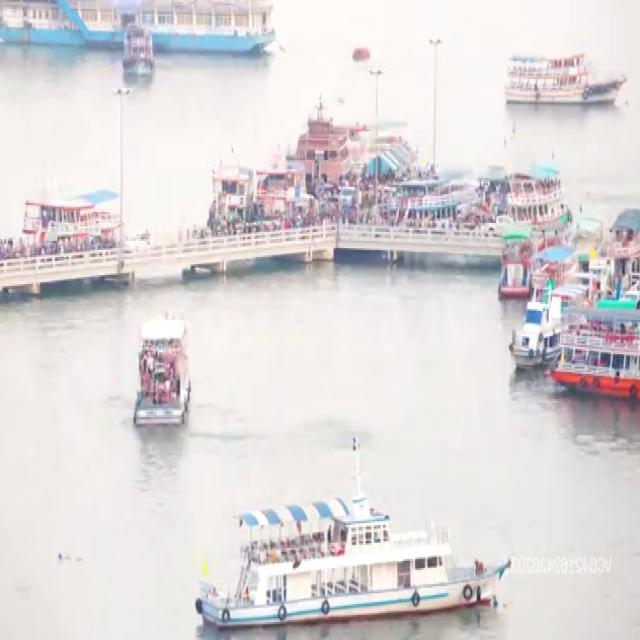passenger ship: (170, 469, 541, 640), (543, 295, 640, 401), (120, 300, 203, 410), (505, 48, 623, 114), (502, 286, 566, 367)
